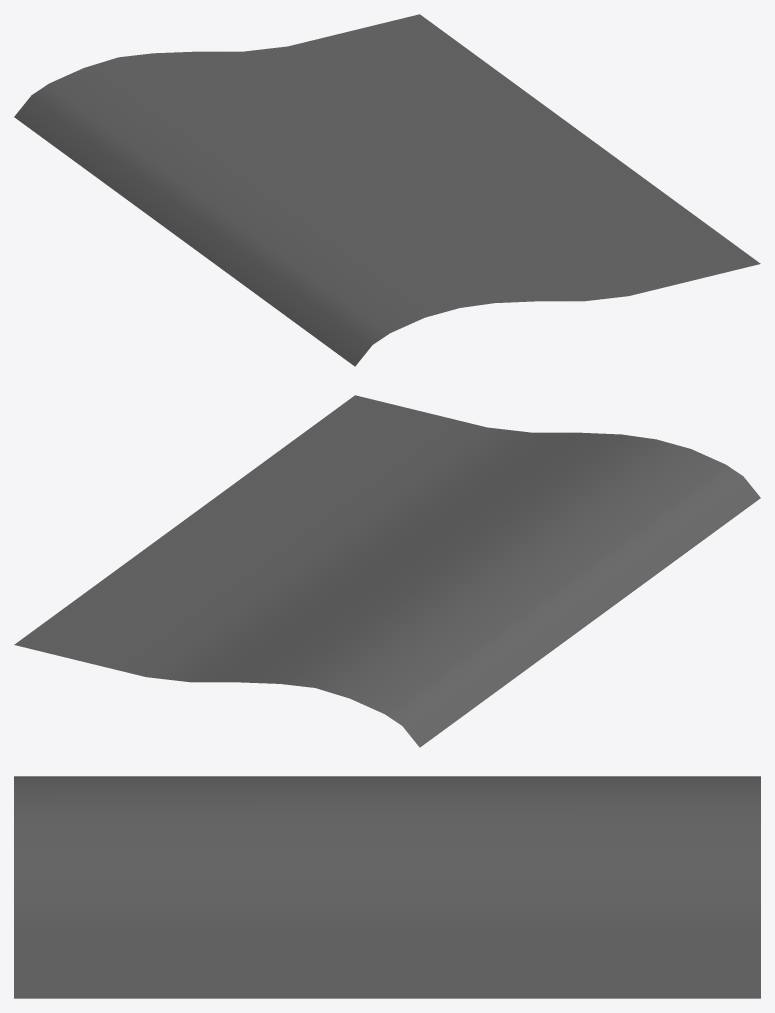
Rendered from Book_26_book_26_0.obj.
3 renders of one model, top to bottom at view 1: azimuth 30°, elevation 25°; view 2: azimuth 150°, elevation 25°; view 3: azimuth 270°, elevation 25°, orthographic. The views are drawn at different scales.
Bounding box in the file's own units: 0.2463 × 0.0199 × 0.3587.
Materials: 1 (1 with a texture image).
